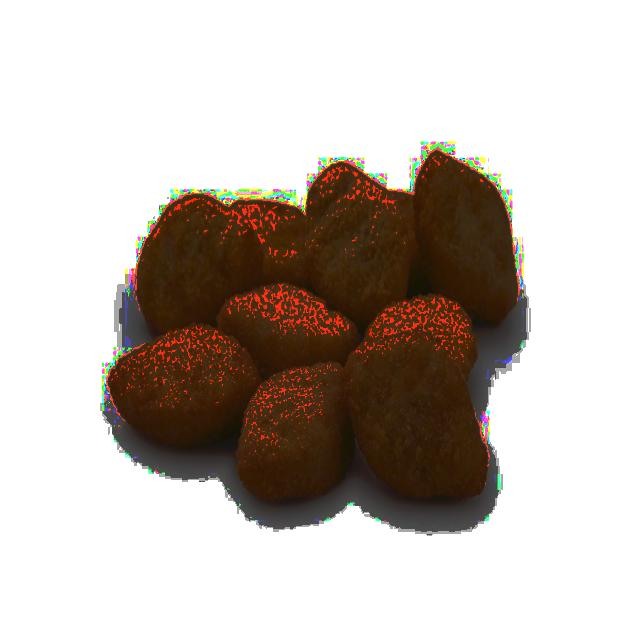chicken_nuggets: (346, 320, 492, 508), (108, 311, 258, 456), (412, 140, 518, 324), (134, 185, 260, 332), (244, 361, 356, 518), (308, 189, 418, 322), (212, 283, 364, 369)
